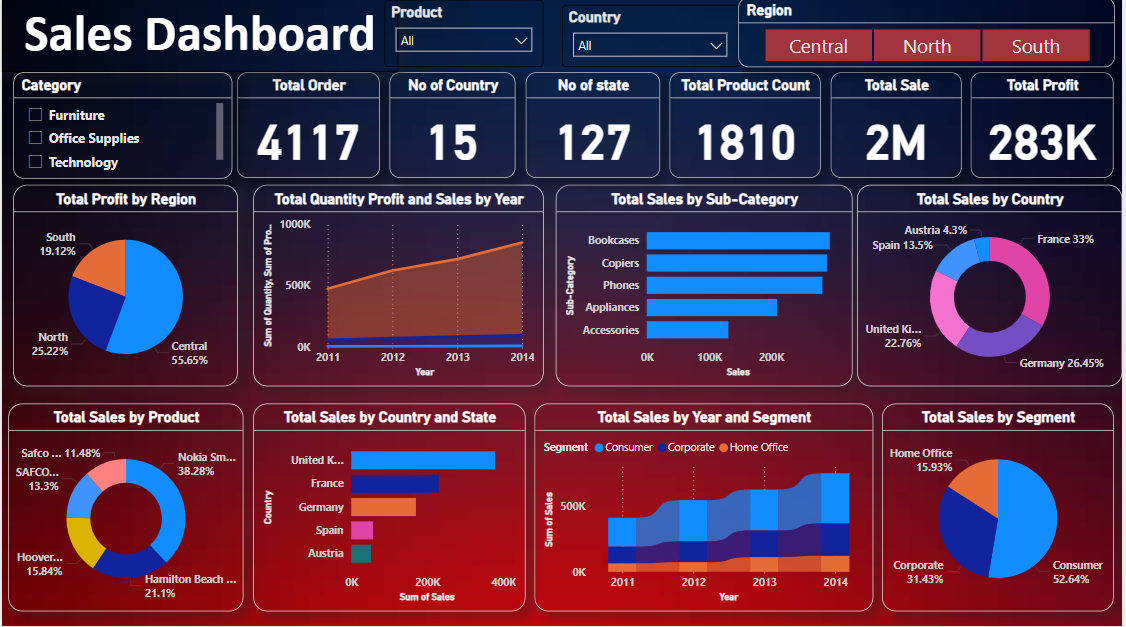

The dashboard page shown, as its layout file describes it:
{"tool":"powerbi","page":{"name":"Page 4","canvas":[1280,720],"ordinal":0},"visuals":[{"type":"stackedAreaChart","title":"Total Quantity Profit and Sales by Year","fields":{"Y":["Sum(OrderBreakdown.Quantity)","Sum(OrderBreakdown.Profit)","Sum(OrderBreakdown.Sales)"],"Category":["ListOfOrders.Order Date.Variation.Date Hierarchy.Year"]},"box":[286.8,215.4,332.1,230.5],"z":0},{"type":"pieChart","title":"Total Profit by Region","fields":{"Category":["ListOfOrders.Region"],"Y":["Sum(OrderBreakdown.Profit)"]},"box":[12.3,215.4,256.6,230.5],"z":1000},{"type":"ribbonChart","title":"Total Sales by Year and Segment","fields":{"Category":["ListOfOrders.Order Date.Variation.Date Hierarchy.Year"],"Series":["ListOfOrders.Segment"],"Y":["Sum(OrderBreakdown.Sales)"]},"box":[609.3,465.2,387,237.4],"z":2000},{"type":"barChart","title":"Total Sales by Sub-Category","fields":{"Category":["OrderBreakdown.Sub-Category"],"Y":["Sum(OrderBreakdown.Sales)"]},"box":[632.6,215.4,338.9,230.5],"z":3000},{"type":"card","title":"Total Profit","fields":{"Values":["Sum(OrderBreakdown.Profit)"]},"box":[1107.4,86.4,163.3,120.8],"z":4000},{"type":"card","title":"Total Sale","fields":{"Values":["Sum(OrderBreakdown.Sales)"]},"box":[946.8,86.4,149.6,120.8],"z":5000},{"type":"card","title":"Total Order","fields":{"Values":["Count(OrderBreakdown.Order ID)"]},"box":[269,86.4,163.3,120.8],"z":6000},{"type":"card","title":"Total Product Count","fields":{"Values":["Count(OrderBreakdown.Product Name)"]},"box":[763,86.4,172.9,120.8],"z":7000},{"type":"card","title":"No of state","fields":{"Values":["Count(ListOfOrders.State)"]},"box":[598.3,86.4,153.7,120.8],"z":8000},{"type":"card","title":"No of Country","fields":{"Values":["Count(ListOfOrders.Country)"]},"box":[443.2,86.4,144.1,120.8],"z":9000},{"type":"donutChart","title":"Total Sales by Product","fields":{"Y":["Sum(OrderBreakdown.Sales)"],"Category":["OrderBreakdown.Product Name"]},"box":[6.9,465.2,269,237.4],"z":10000},{"type":"pieChart","title":"Total  Sales by Segment","fields":{"Y":["Sum(OrderBreakdown.Sales)"],"Category":["ListOfOrders.Segment"]},"box":[1005.8,465.2,264.8,237.4],"z":11000},{"type":"donutChart","title":"Total Sales by Country","fields":{"Y":["Sum(OrderBreakdown.Sales)"],"Category":["ListOfOrders.Country"]},"box":[977,215.4,303.3,230.5],"z":12000},{"type":"barChart","title":"Total Sales by Country and State","fields":{"Category":["ListOfOrders.Country"],"Y":["Sum(OrderBreakdown.Sales)"],"Series":["ListOfOrders.State"]},"box":[286.8,465.2,311.5,237.4],"z":13000},{"type":"textbox","box":[0,0,452.8,86.4],"z":14000},{"type":"slicer","title":"Category","fields":{"Values":["OrderBreakdown.Category"]},"box":[12.9,87.1,250,121.4],"z":15000},{"type":"slicer","title":"Product","fields":{"Values":["OrderBreakdown.Product Name"]},"box":[437.1,4.3,181.4,77.1],"z":16000},{"type":"slicer","title":"Country","fields":{"Values":["ListOfOrders.Country"]},"box":[640,10,201.4,71.4],"z":17000},{"type":"slicer","title":"Region","fields":{"Values":["ListOfOrders.Region"]},"box":[841.4,1.4,430,80],"z":18000}]}

Visuals, with their boxes in screenshot pixels (x1, y1, x2, y2), scaled from the page's 1280x720 canvas onto the 1126x627 screenshot:
"Total Quantity Profit and Sales by Year" stackedAreaChart: crop(252, 188, 544, 388)
"Total Profit by Region" pieChart: crop(11, 188, 237, 388)
"Total Sales by Year and Segment" ribbonChart: crop(536, 405, 876, 612)
"Total Sales by Sub-Category" barChart: crop(556, 188, 855, 388)
"Total Profit" card: crop(974, 75, 1118, 180)
"Total Sale" card: crop(833, 75, 964, 180)
"Total Order" card: crop(237, 75, 380, 180)
"Total Product Count" card: crop(671, 75, 823, 180)
"No of state" card: crop(526, 75, 662, 180)
"No of Country" card: crop(390, 75, 517, 180)
"Total Sales by Product" donutChart: crop(6, 405, 243, 612)
"Total  Sales by Segment" pieChart: crop(885, 405, 1118, 612)
"Total Sales by Country" donutChart: crop(859, 188, 1125, 388)
"Total Sales by Country and State" barChart: crop(252, 405, 526, 612)
textbox: crop(0, 0, 398, 75)
"Category" slicer: crop(11, 76, 231, 182)
"Product" slicer: crop(385, 4, 544, 71)
"Country" slicer: crop(563, 9, 740, 71)
"Region" slicer: crop(740, 1, 1118, 71)
